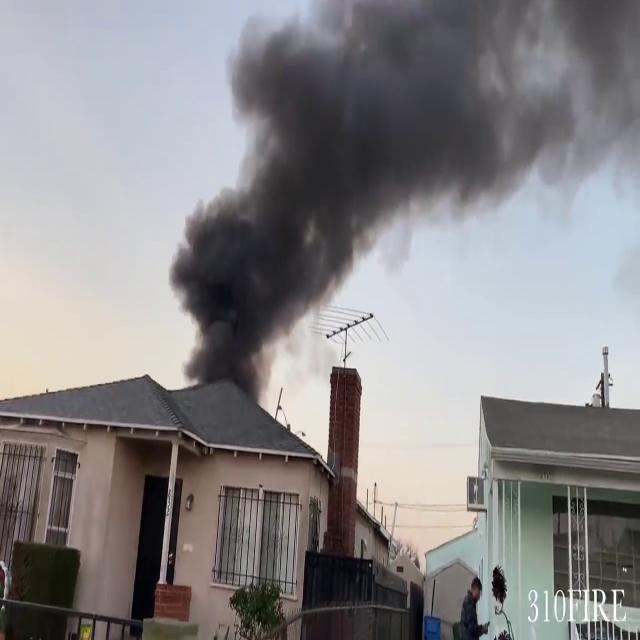Smoke: (165, 0, 640, 404)
